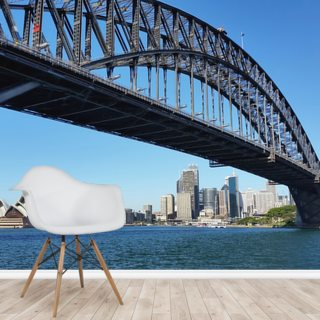bridge: (1, 1, 318, 196)
